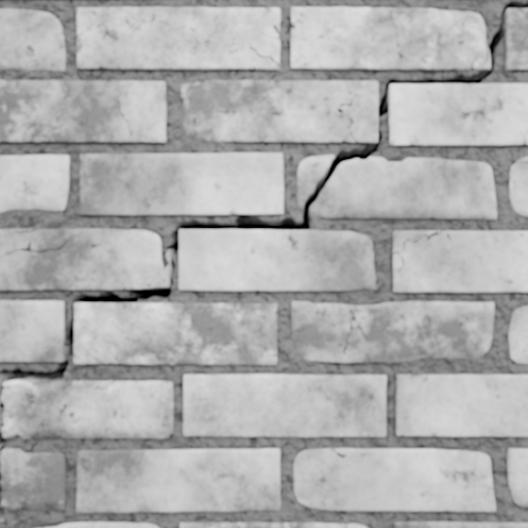brick: (76, 448, 279, 511), (183, 374, 384, 436), (294, 448, 494, 510), (80, 153, 282, 214), (77, 8, 279, 69), (74, 303, 276, 364), (291, 8, 487, 69), (292, 302, 493, 361), (181, 81, 377, 141), (179, 230, 375, 289), (0, 81, 164, 141), (0, 229, 163, 289), (389, 84, 527, 145), (396, 374, 527, 435), (393, 231, 527, 290), (0, 9, 64, 69), (0, 155, 68, 211), (0, 301, 62, 360), (505, 10, 527, 69), (507, 448, 527, 506), (509, 157, 527, 214), (509, 306, 527, 361), (393, 231, 432, 250), (180, 523, 364, 527), (394, 522, 527, 527), (47, 523, 157, 527)
broken_brick: (310, 155, 497, 219), (2, 379, 173, 438), (0, 447, 64, 510), (296, 153, 331, 209)
crack: (0, 0, 527, 457), (392, 229, 445, 273), (334, 96, 358, 142), (248, 45, 279, 68), (0, 459, 5, 525), (258, 24, 279, 39), (330, 447, 346, 458), (12, 229, 35, 233), (167, 432, 173, 437), (522, 160, 527, 164)
